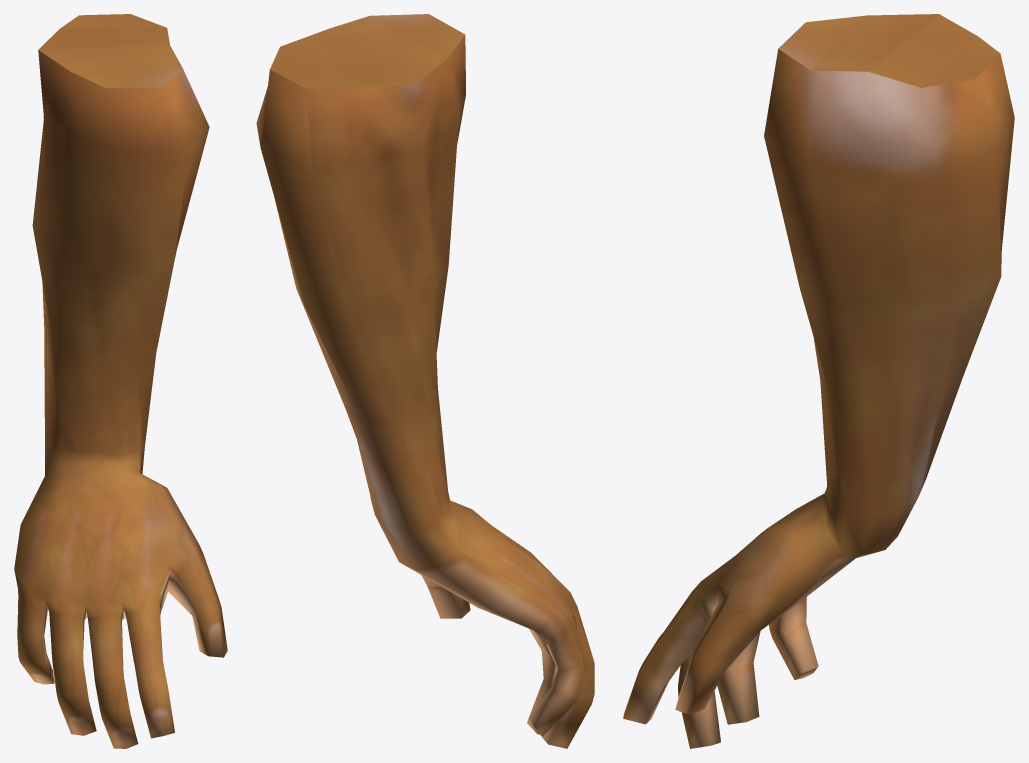
File: arm_and_hand_default.obj
3 renders of one model, left to right at view 1: azimuth 30°, elevation 25°; view 2: azimuth 150°, elevation 25°; view 3: azimuth 270°, elevation 25°, orthographic. The views are drawn at different scales.
Visible parts, largest first — view 1: Arm_Cube; view 2: Arm_Cube; view 3: Arm_Cube.
Part boxes in pixels (x1,y1,x2,y2): Arm_Cube: [14, 14, 227, 748]; Arm_Cube: [256, 14, 594, 748]; Arm_Cube: [623, 14, 1014, 748].
Bounding box in the file's own units: 0.1521 × 0.4182 × 0.1994.
1 material, 1 textured.
